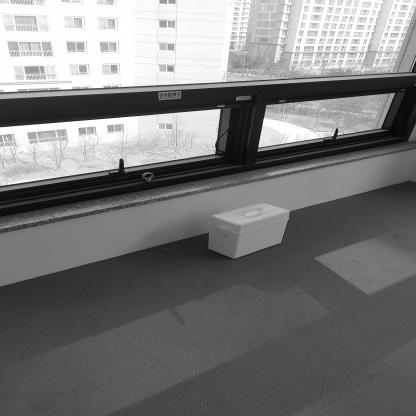DDL: (207, 202, 290, 260)
